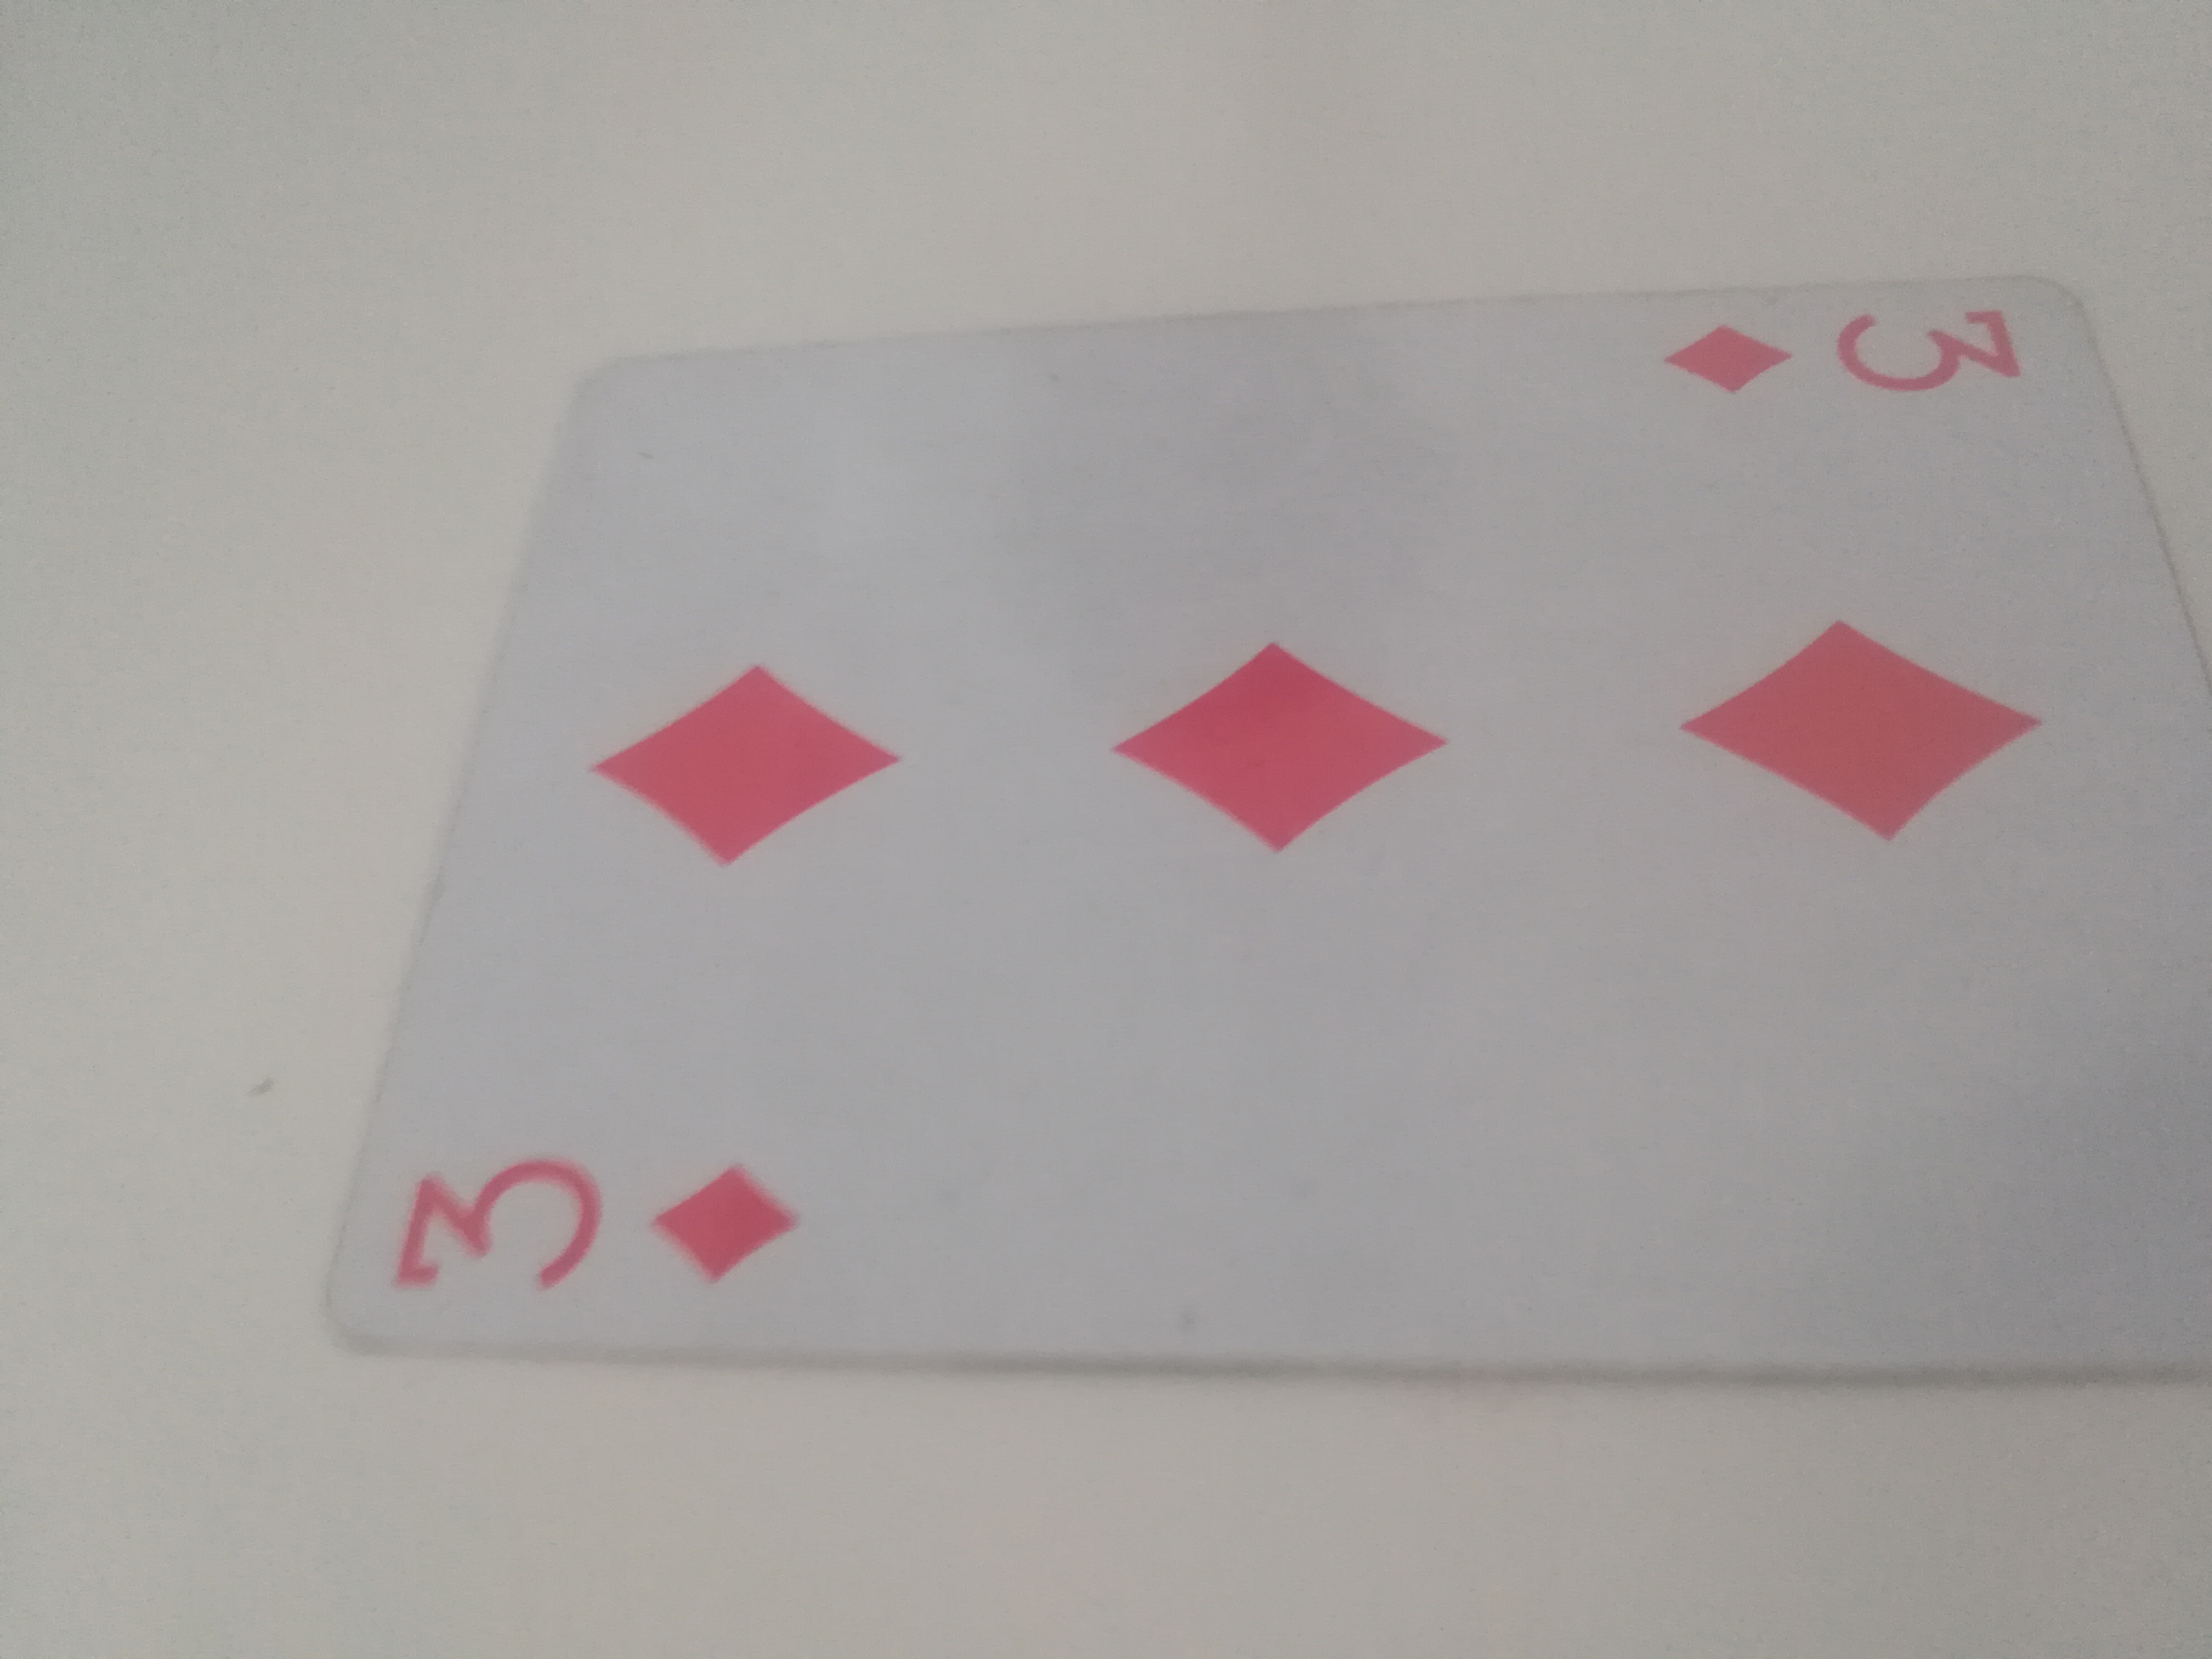3D: (327, 274, 2212, 1401)
